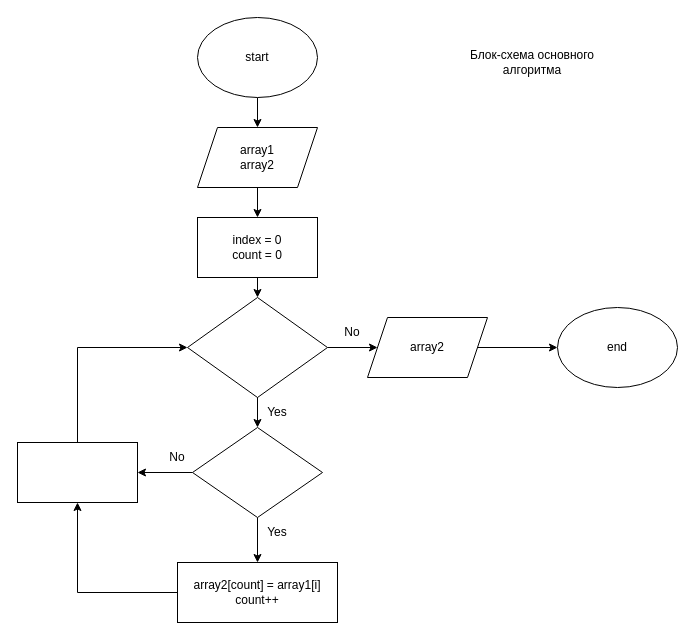
Some shapes in this 695 by 640 pixel diagram are drawn without their labels. The centre of each missing label's shape, as x and y in pixels:
array1[i].Lenght<=3: the point at 257,472
index < array1.Length: the point at 257,347
index++: the point at 77,472
